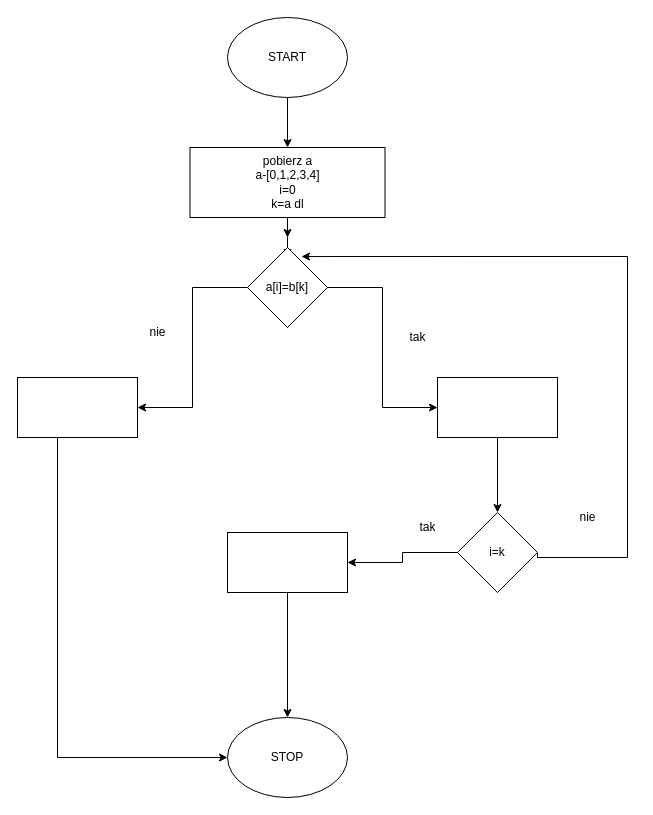
This 653x815 diagram has some shape labels left out. Each missing label, with the centre of its shape:
"i+1 k-1" belongs at (x=497, y=407).
"NIe jest palindromem" belongs at (x=77, y=407).
"slowo jest palindromem" belongs at (x=287, y=562).
